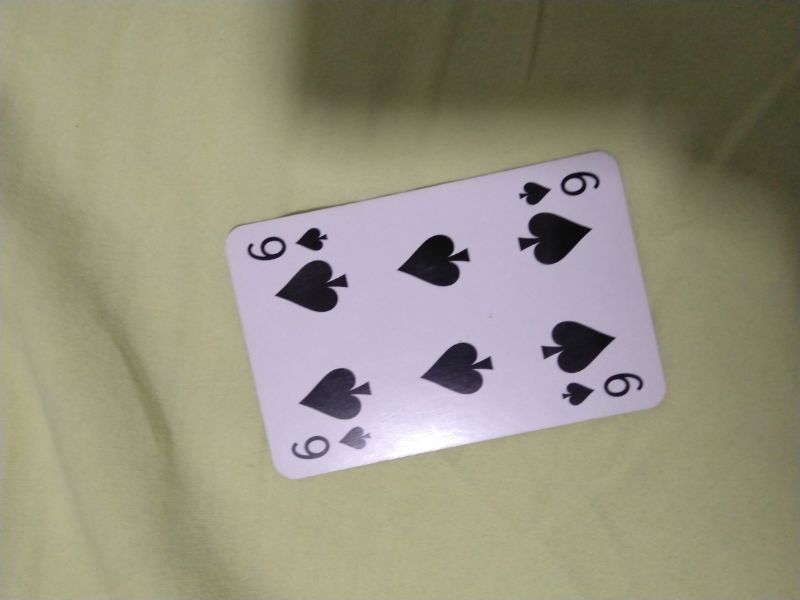6s: (514, 165, 605, 207), (244, 222, 333, 264), (286, 422, 375, 463), (559, 368, 647, 408)
